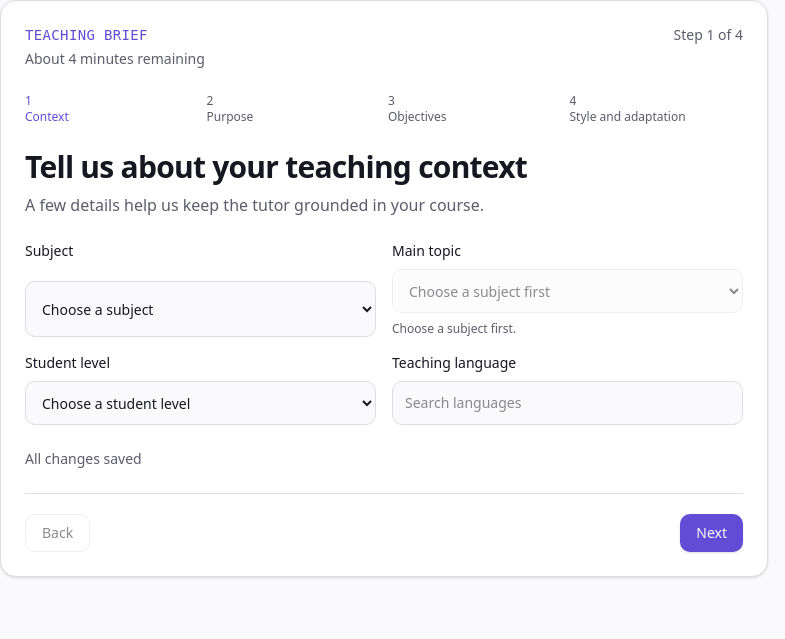
Scenario: TeachingBriefWizard › validates each step before allowing the educator to continue
The image size is (785, 639).
Click the button "Next" at (712, 533), box [680,514,743,552]
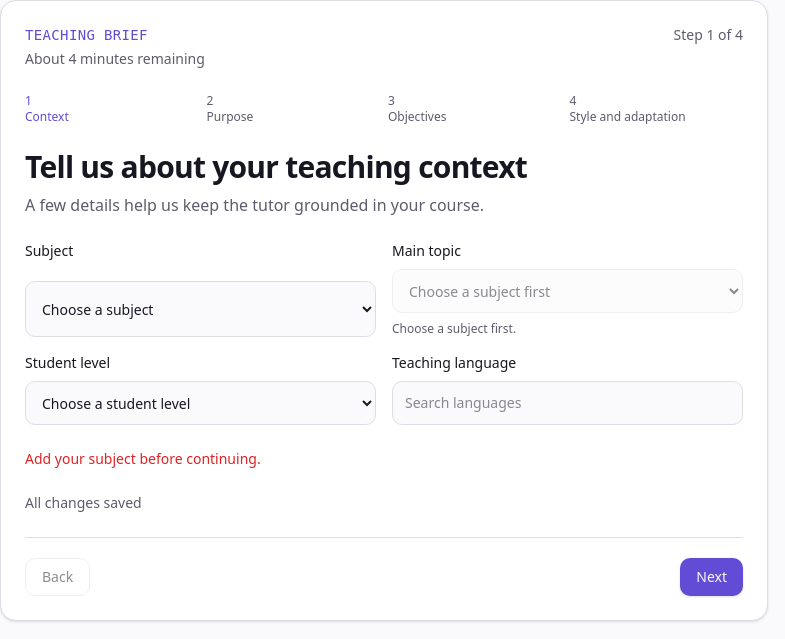
Check: the text "Add your subject before continuing." is shown, box [25,449,261,468]
Select "Mathematics" in the dropdown labelled "Subject" at (200, 309), box [25,281,376,337]
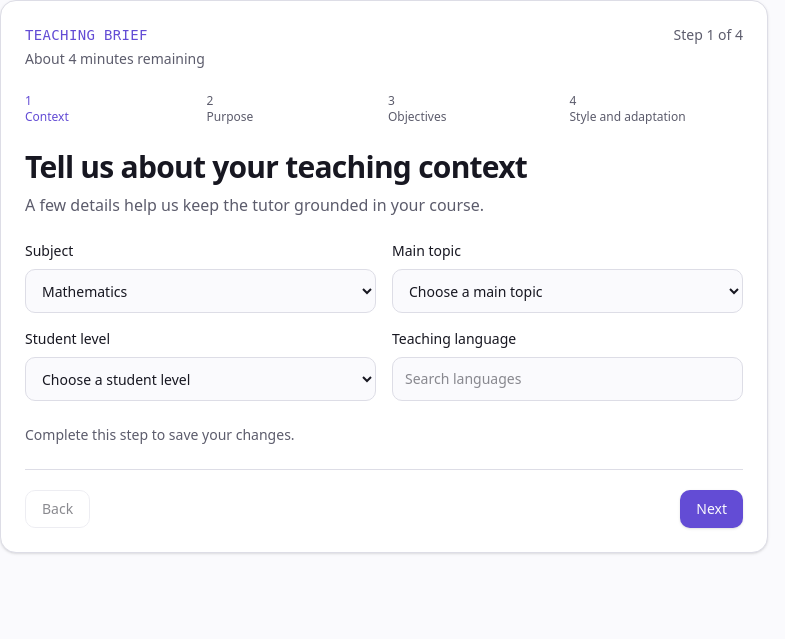
Select "Statistics and probability" in the dropdown labelled "Main topic" at (568, 291), box [392,269,743,313]
Select "Undergraduate" in the dropdown labelled "Student level" at (200, 379), box [25,357,376,401]
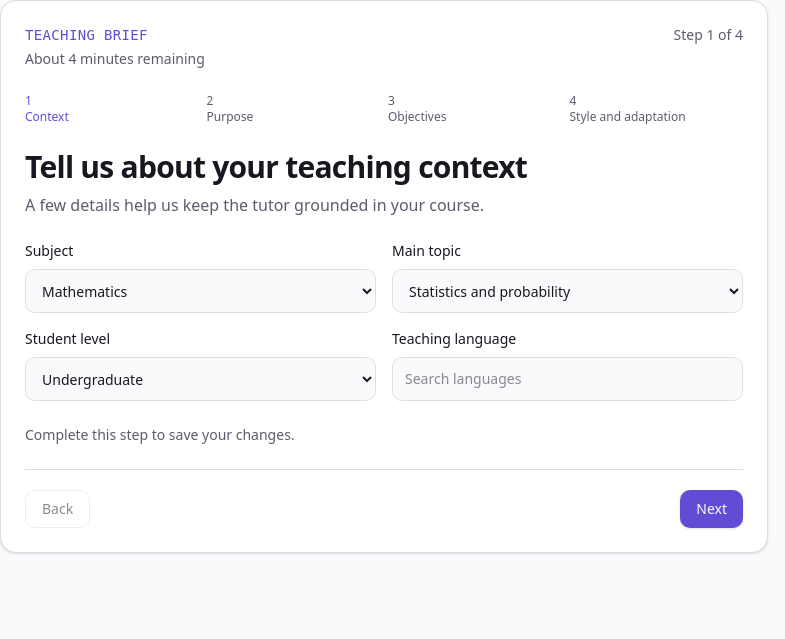
Type "English" into the dropdown labelled "Teaching language" at (568, 379), box [392,357,743,401]
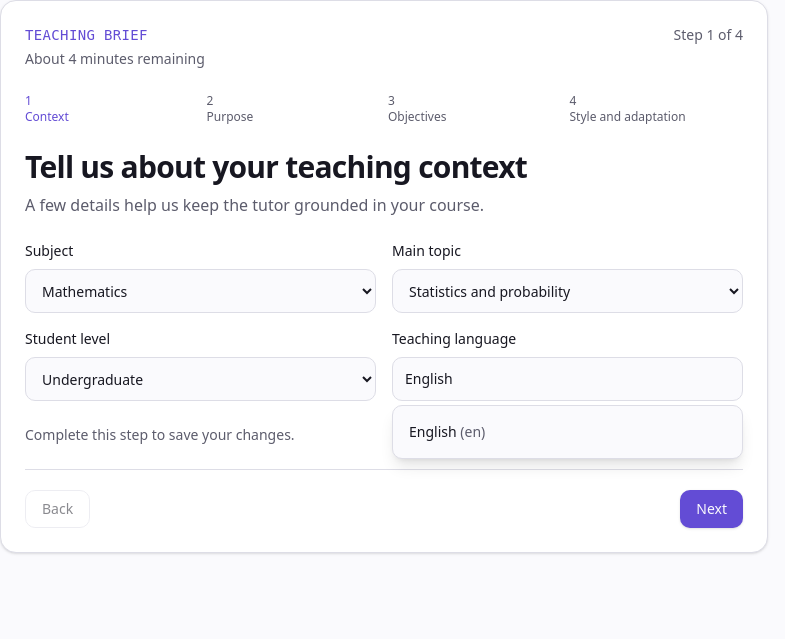
Click the button "English (en)" at (433, 432), box [397,410,738,454]
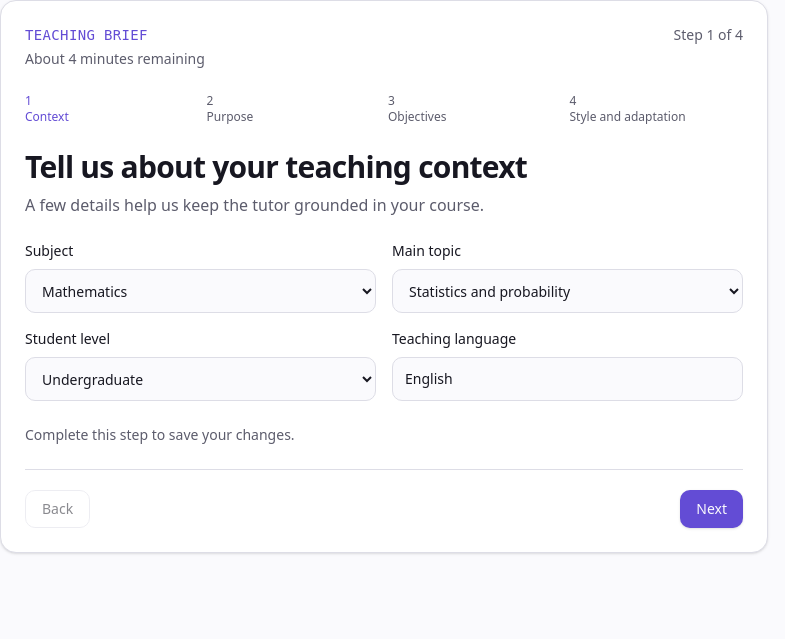
Click the button "Next" at (712, 509), box [680,490,743,528]
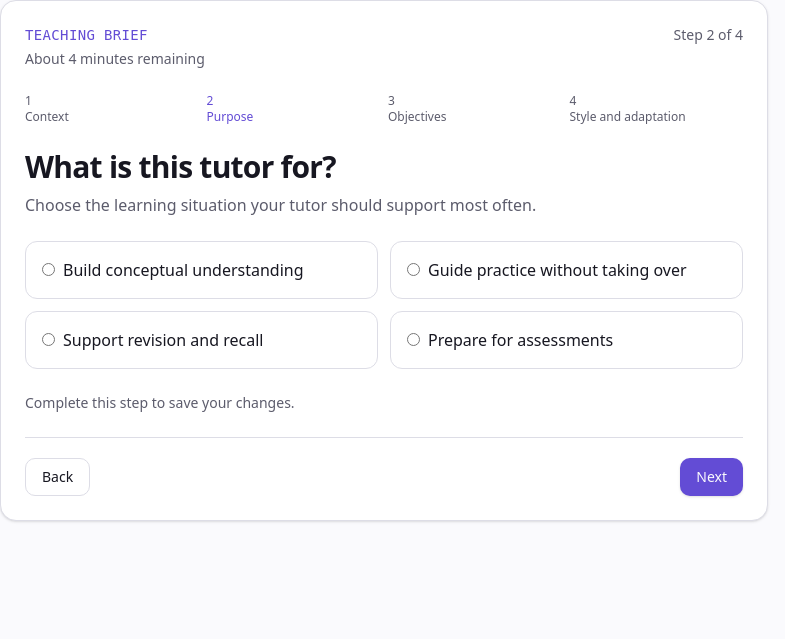
Check: the heading "What is this tutor for?" is shown, box [25,146,336,187]
Check: the text "Step 2 of 4" is shown, box [674,25,743,45]
